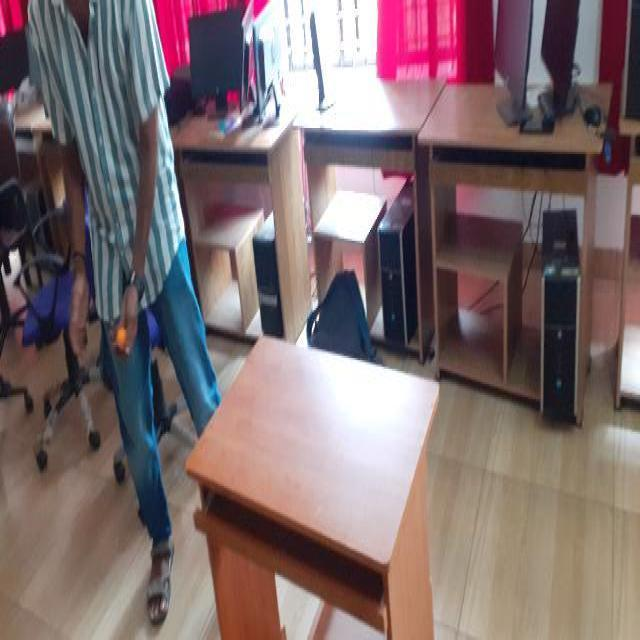ping-pong-ball: (118, 324, 124, 346)
